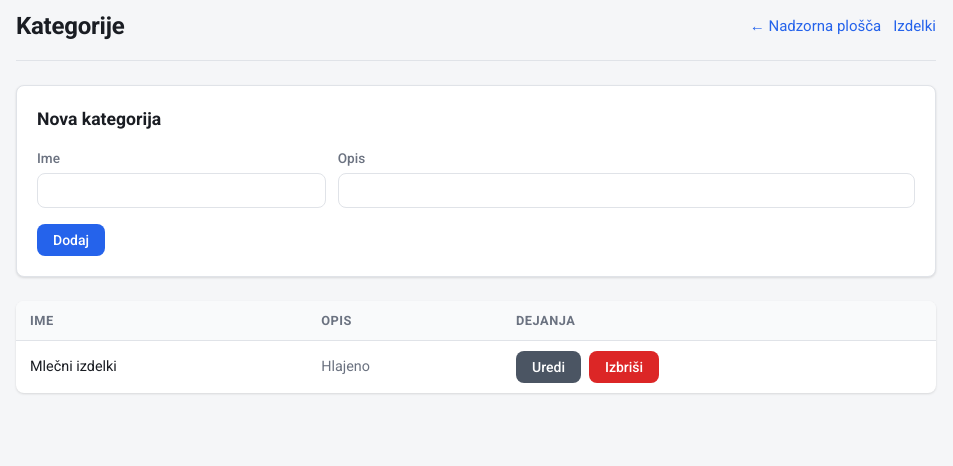
CategoriesPage › shows CATEGORY_NAME_TAKEN in Slovenian
Expected: the text "Mlečni izdelki" is shown, [16,340,307,393]
Type "mlečni izdelki" into the field labelled "Ime" at point(181, 190), box [37,173,326,208]
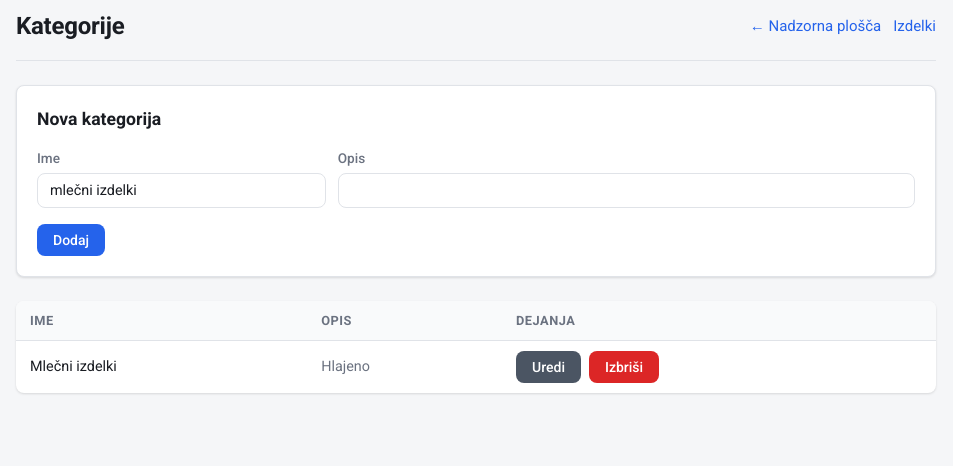
Click the button "Dodaj" at point(71, 240), box [37,224,105,256]
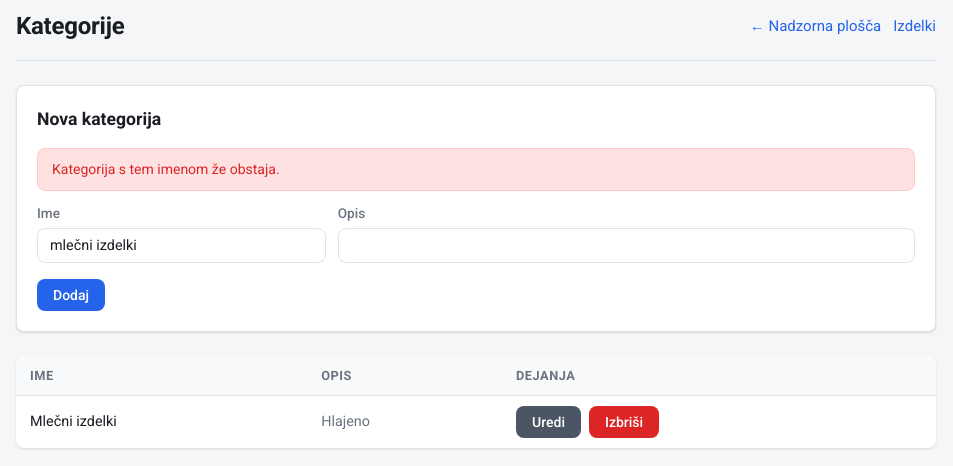
Now the text "Kategorija s tem imenom že obstaja." is shown, box [37,148,915,191]
